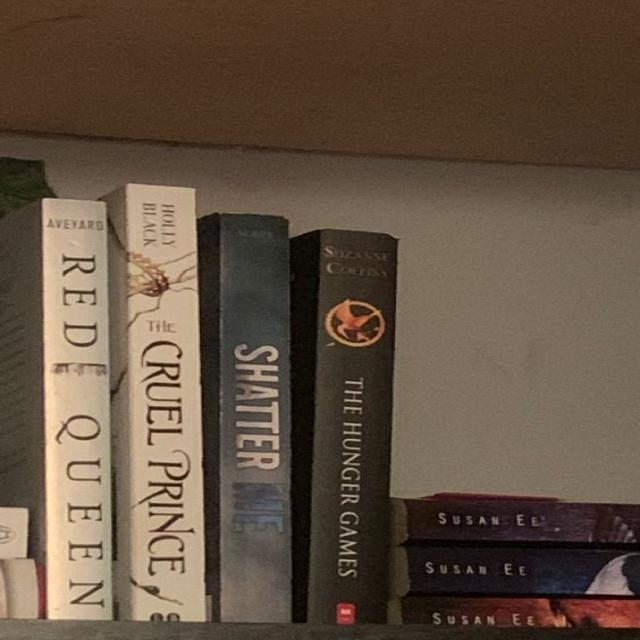book: (100, 183, 208, 620), (292, 229, 397, 623), (199, 214, 290, 621), (42, 200, 110, 620), (406, 544, 639, 597), (405, 494, 639, 543), (402, 596, 639, 626)
